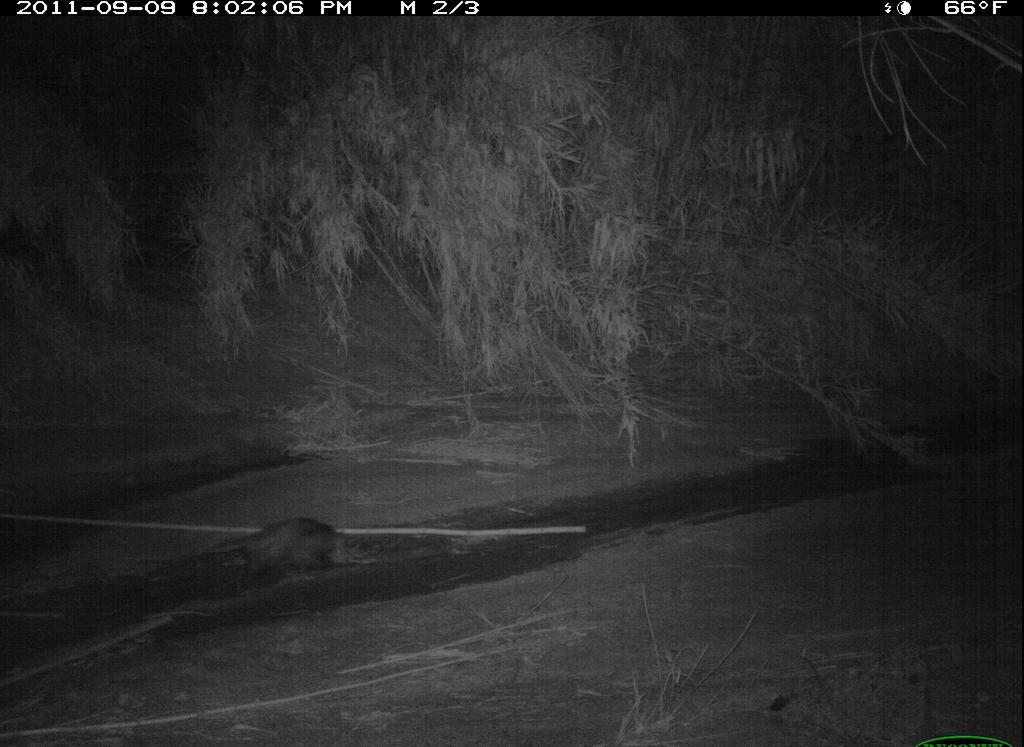opossum: (181, 509, 368, 606)
